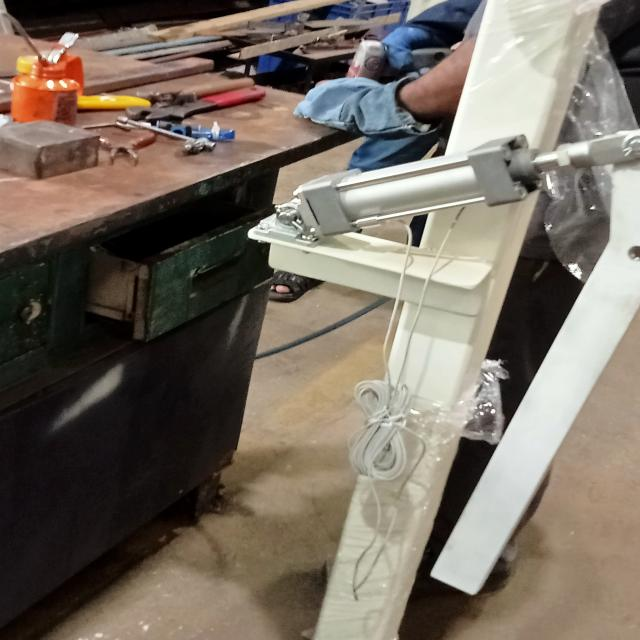Gloves-Detection: (311, 75, 408, 137), (377, 6, 458, 62)
